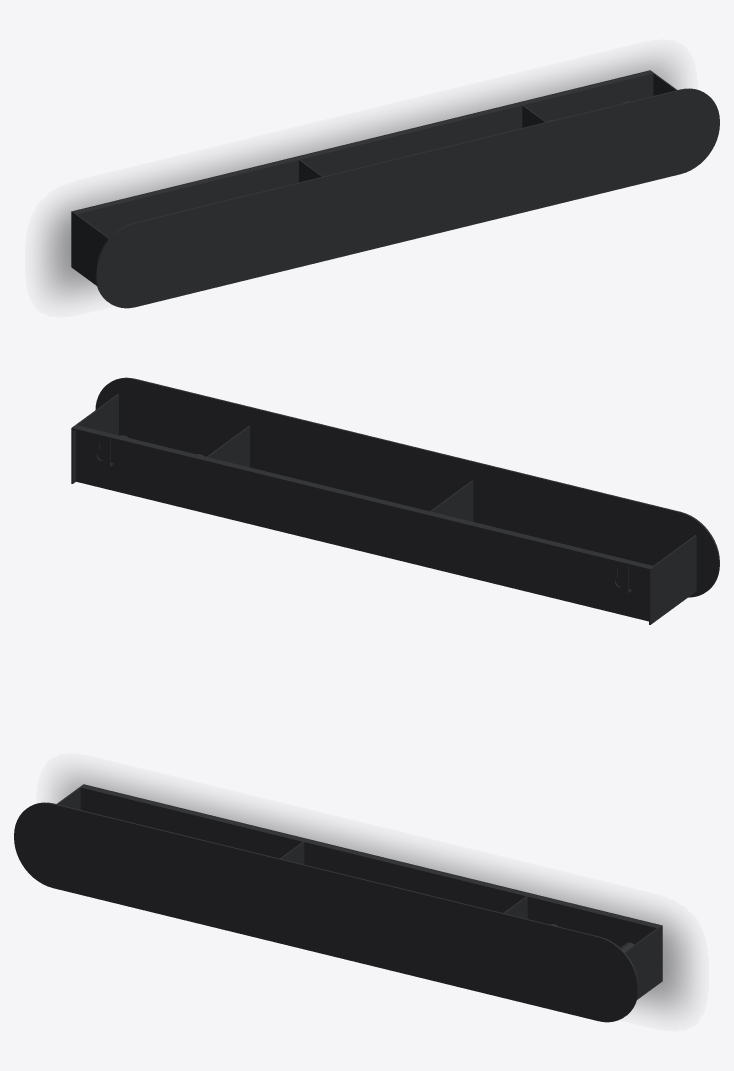
Rendered from round-patron.356b0cd971.ar.glb.
3 renders of one model, top to bottom at view 1: azimuth 30°, elevation 25°; view 2: azimuth 150°, elevation 25°; view 3: azimuth 330°, elevation 25°, orthographic.
Visible parts, largest first — view 1: NAUO1, object 2; view 2: NAUO1; view 3: NAUO1, object 2.
Boxes of the visible parts, x1,y1,x2,y2 form: NAUO1: [71, 70, 719, 308]; object 2: [42, 59, 679, 297]; NAUO1: [71, 377, 719, 624]; NAUO1: [14, 784, 662, 1022]; object 2: [54, 773, 691, 1011].
Bounding box in the file's own units: 0.78 × 0.17 × 0.092.
2 materials, 1 textured.
